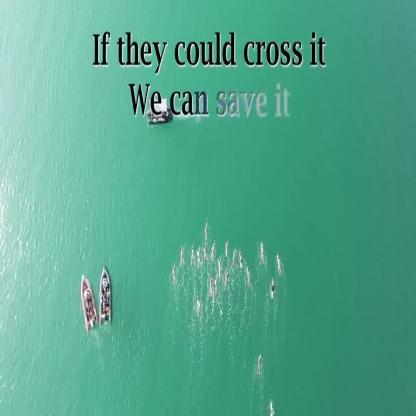Boat: (98, 271, 114, 322), (80, 278, 96, 329)
